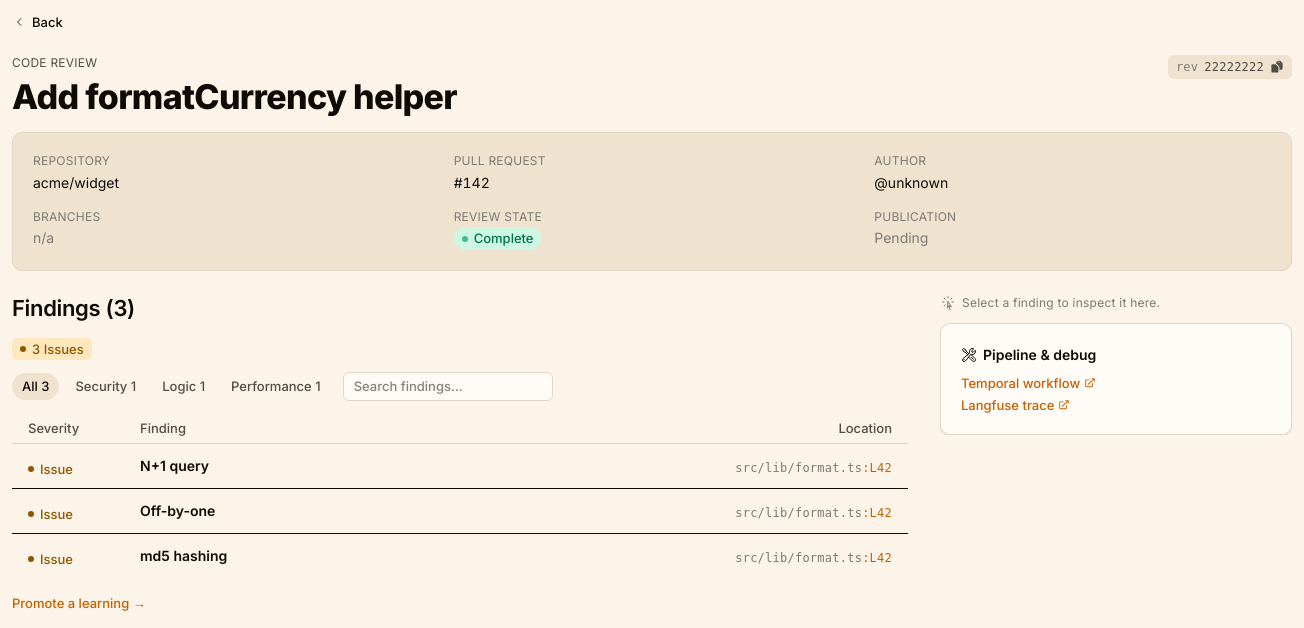
ReviewDetailPage — wiring › P1 engineer value › groups findings by category with Security before Logic
Expected: the button "Logic 1" is shown, [152,373,215,400]
Expected: the button "Performance 1" is shown, [221,373,331,400]
Click the button "Security 1" at [106, 386], box [65,373,146,400]
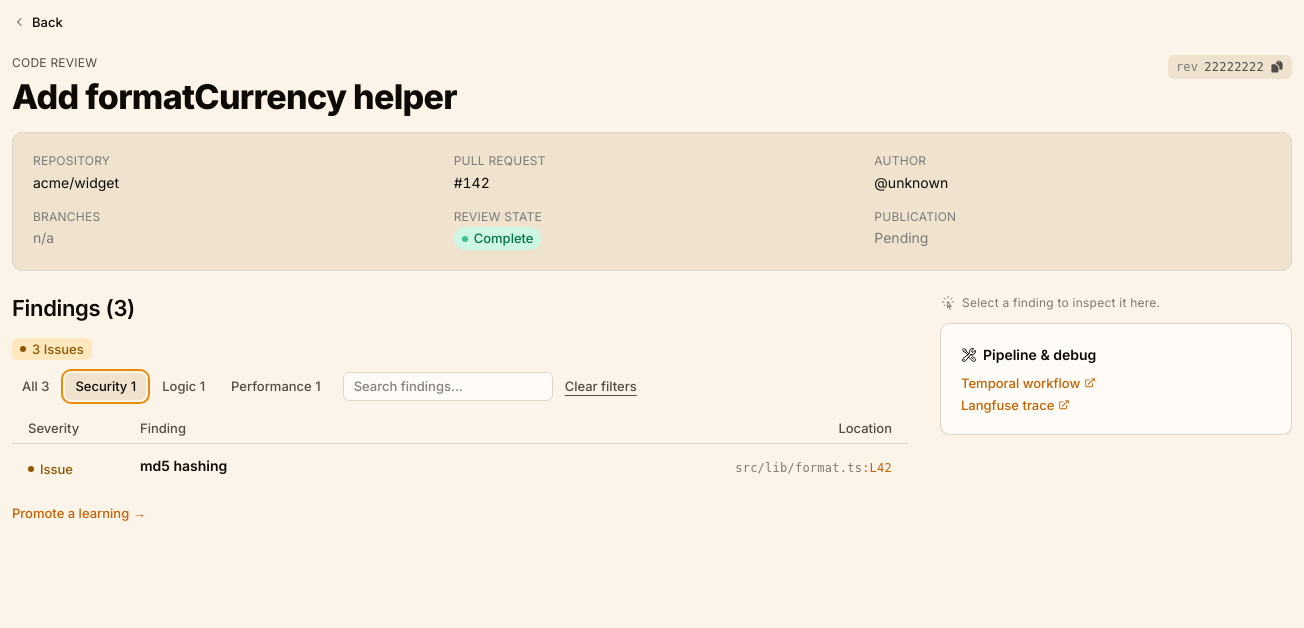
Expected: the text "md5 hashing" is shown, [140,457,227,474]
Expected: the text "Off-by-one" is gone
Expected: the text "N+1 query" is gone
